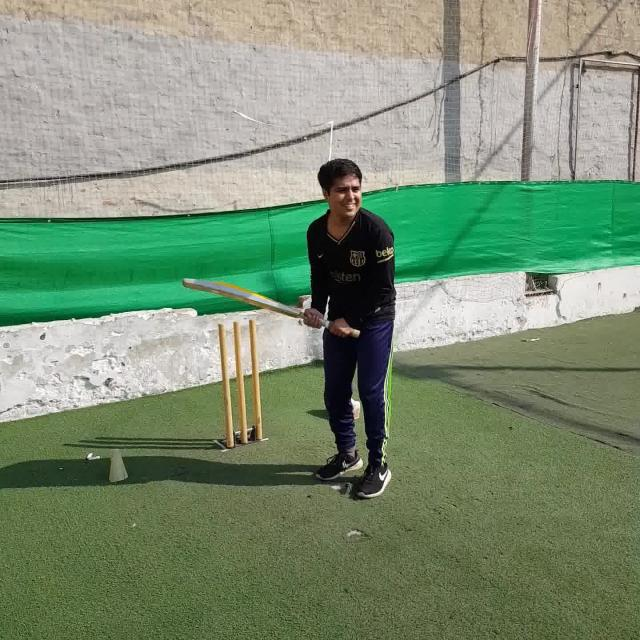bat: (183, 277, 361, 338)
